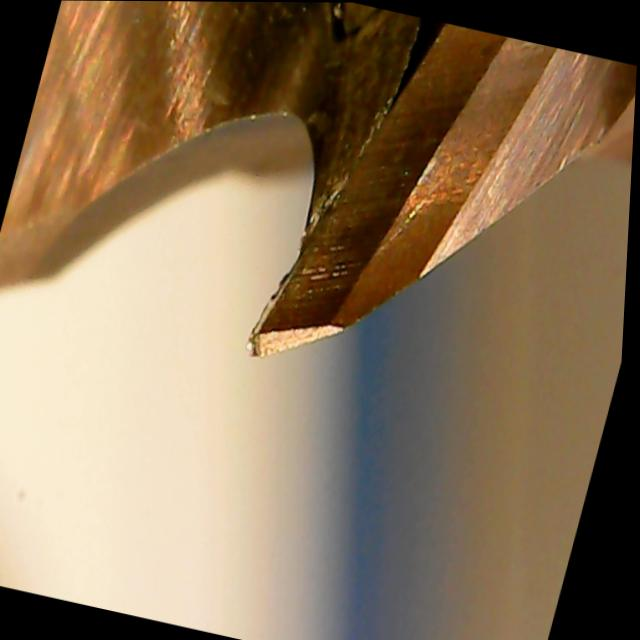Tool-wear-class-1: (234, 40, 479, 406)
